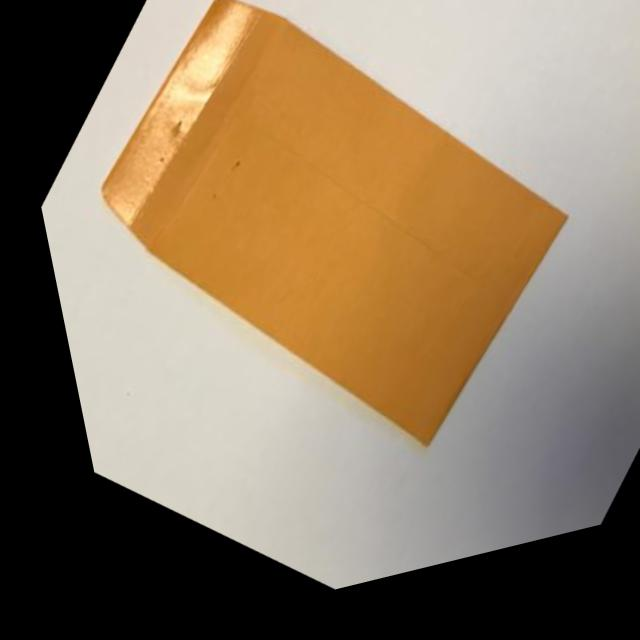paper: (3, 0, 640, 582)
